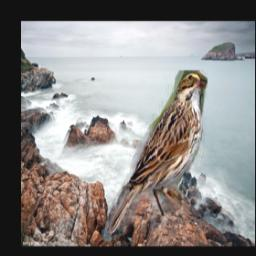Sparrow: (105, 70, 208, 238)
